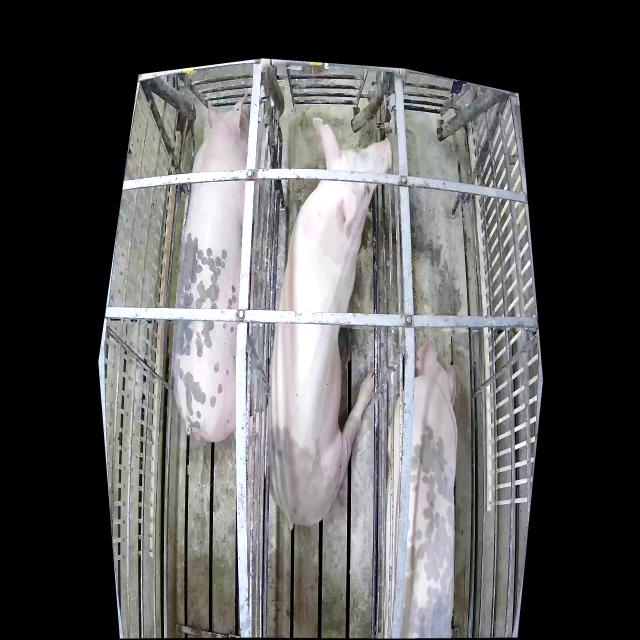pig: (268, 118, 392, 526), (174, 91, 250, 441), (383, 340, 460, 637)
